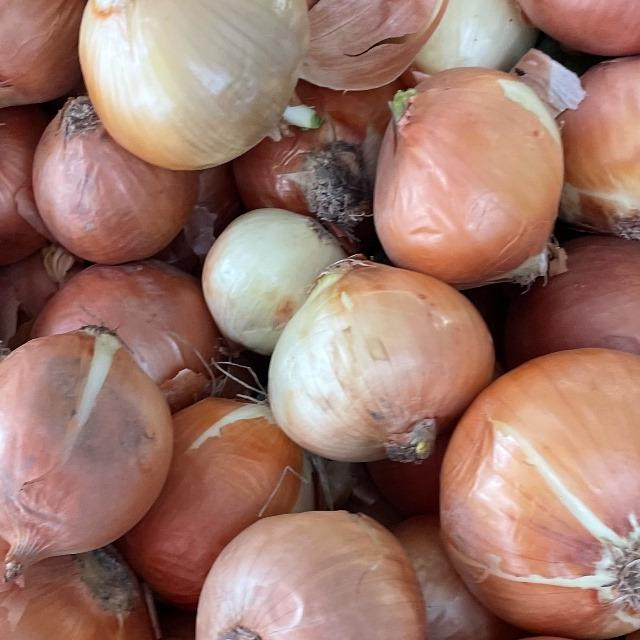onion: (435, 342, 640, 640), (350, 42, 590, 290), (262, 248, 498, 478), (0, 312, 185, 587), (70, 0, 310, 170), (190, 492, 432, 640), (540, 27, 640, 265)
